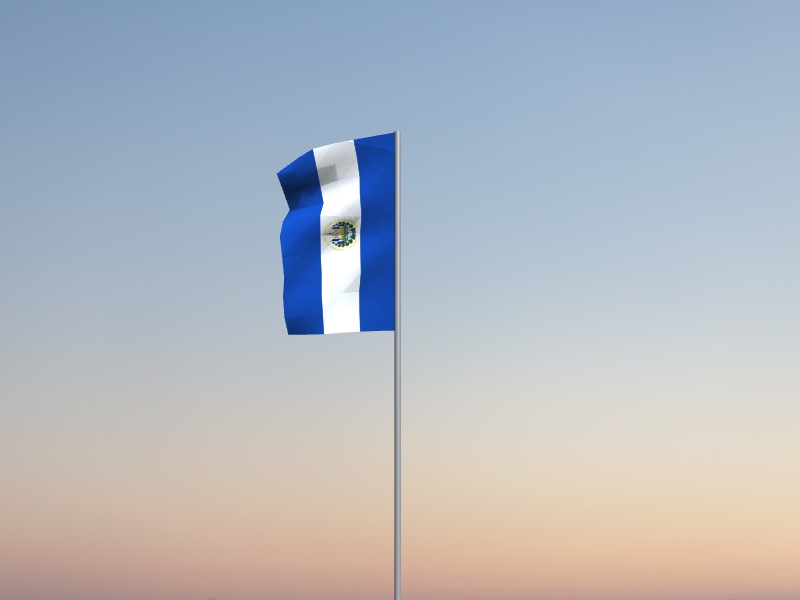sv: (276, 132, 395, 336)
